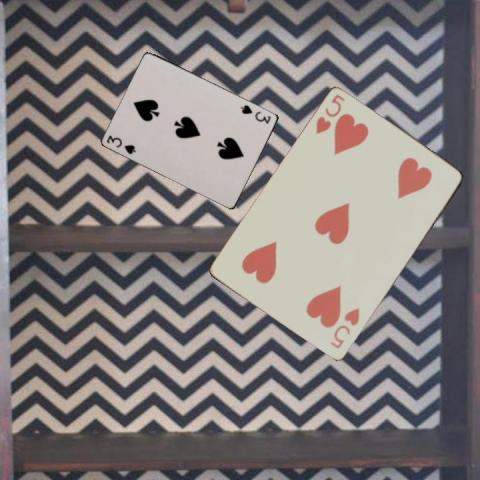3s: (238, 102, 273, 126), (104, 132, 137, 155)
5h: (327, 305, 361, 351), (312, 91, 346, 136)
